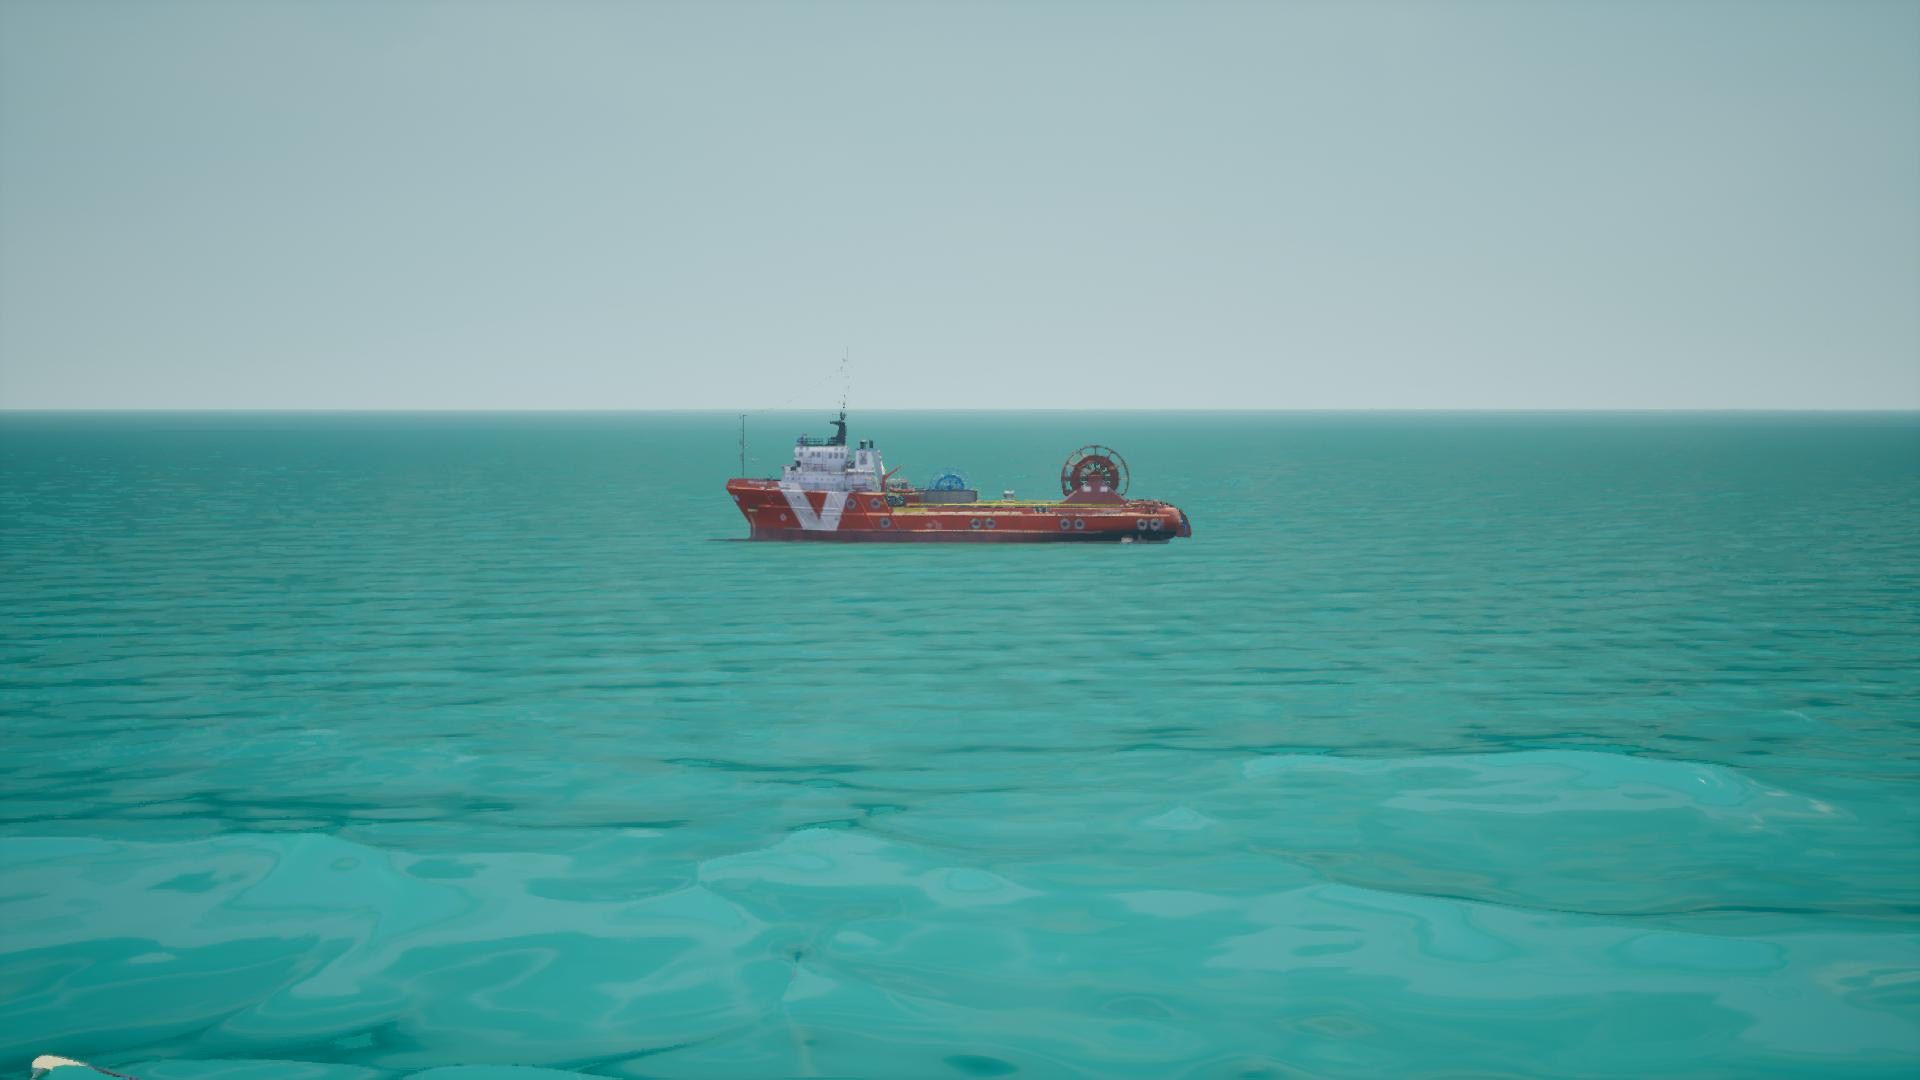Tug Boat: (717, 401, 1188, 550)
